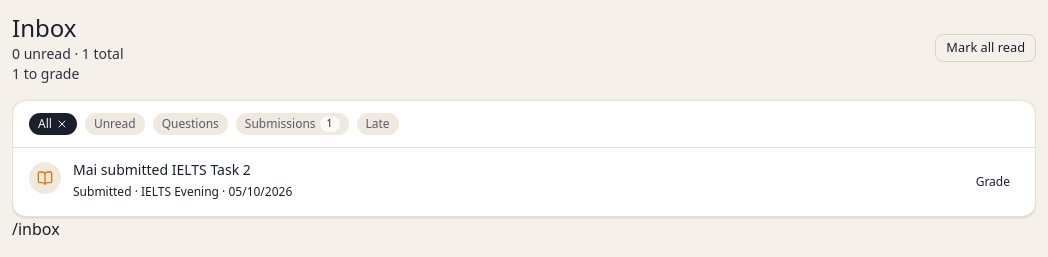
InboxView — teacher merged work-queue feed (10-1c AC6/AC7/AC9/AC10) › AC6: Grade navigates to the exact grading deep-link; submission row has NO archive
The image size is (1048, 257).
Grade → the exact grading surface.
Click the button with test id "inbox-row-s1-primary": coordinates (993, 182) [967, 160, 1019, 204]
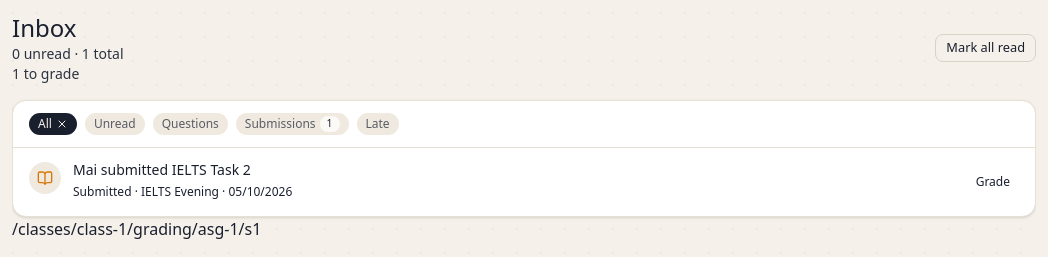
Expected: the text with test id "location-probe" reads "/classes/class-1/grading/asg-1/s1", [12, 218, 261, 240]
